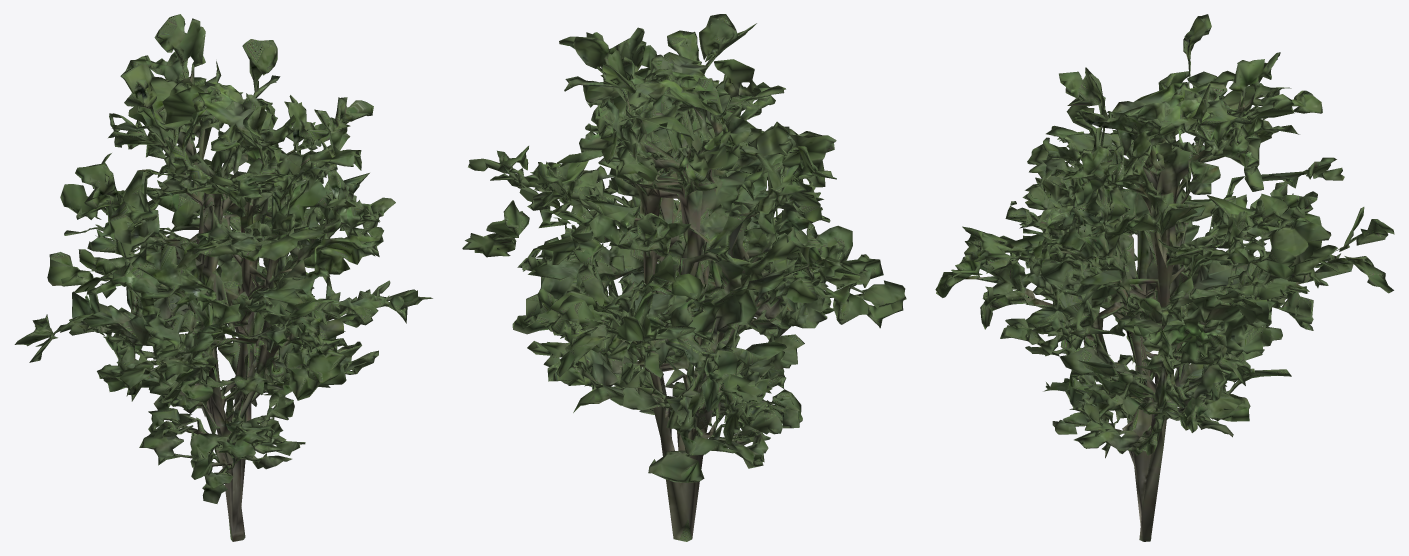
File: lib_tp_xoai.near.glb
3 views of the same model, side by side, from view 1: azimuth 30°, elevation 25°; view 2: azimuth 150°, elevation 25°; view 3: azimuth 270°, elevation 25° (orthographic). The views are drawn at different scales.
Bounding box in the file's own units: 1.39 × 1.98 × 1.69.
1 material, 1 textured.
